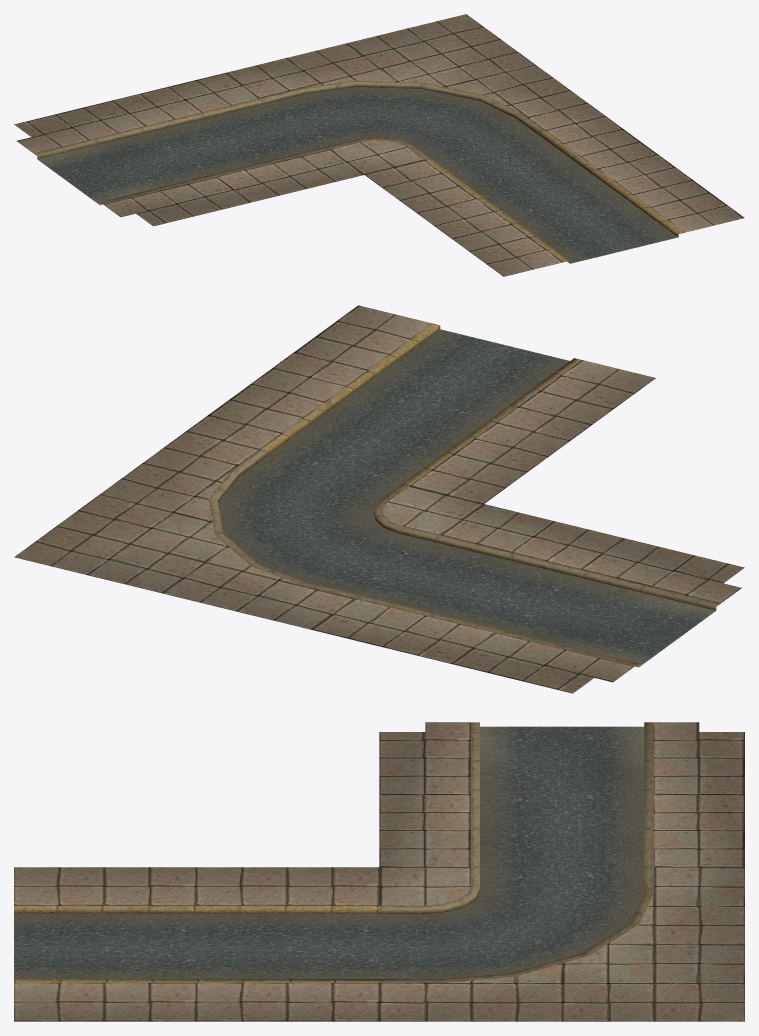
File: M11Z1_TunnelRoad2.glb
3 views of the same model, one above another, from view 1: azimuth 30°, elevation 25°; view 2: azimuth 150°, elevation 25°; view 3: azimuth 270°, elevation 25° (orthographic). The views are drawn at different scales.
Visible parts, largest first — view 1: M11Z1_TUNNELROAD2, M11Z1_TUNNELROAD2001, M11Z1_TUNNELROAD2002; view 2: M11Z1_TUNNELROAD2, M11Z1_TUNNELROAD2001, M11Z1_TUNNELROAD2002; view 3: M11Z1_TUNNELROAD2, M11Z1_TUNNELROAD2001, M11Z1_TUNNELROAD2002.
Part boxes in pixels (<box>): M11Z1_TUNNELROAD2: <box>365,116,744,276</box>; M11Z1_TUNNELROAD2001: <box>14,73,363,226</box>; M11Z1_TUNNELROAD2002: <box>226,14,604,174</box>; M11Z1_TUNNELROAD2: <box>186,305,655,503</box>; M11Z1_TUNNELROAD2001: <box>303,504,744,693</box>; M11Z1_TUNNELROAD2002: <box>14,431,483,629</box>; M11Z1_TUNNELROAD2: <box>14,867,379,1021</box>; M11Z1_TUNNELROAD2001: <box>379,722,744,894</box>; M11Z1_TUNNELROAD2002: <box>379,867,744,1021</box>.
Bounding box in the file's own units: 15.5 × 0.1 × 16.
Materials: 4 (4 with a texture image).
